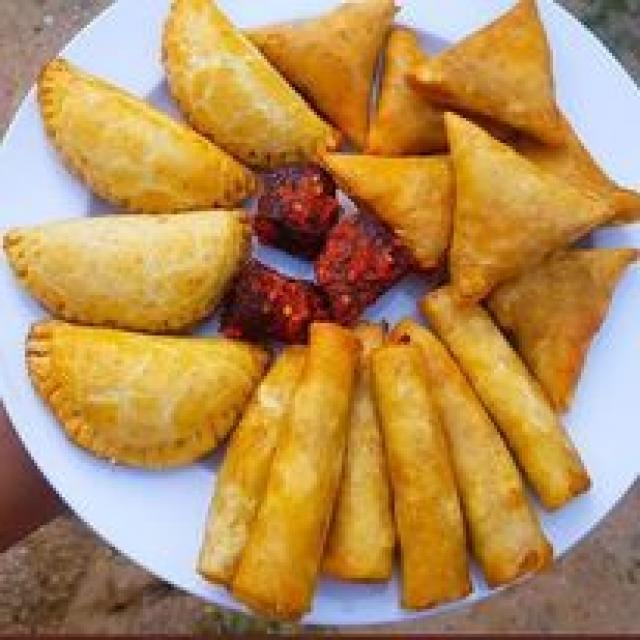Samosa: (346, 0, 638, 347)
Spring Rolls: (205, 283, 556, 618)
